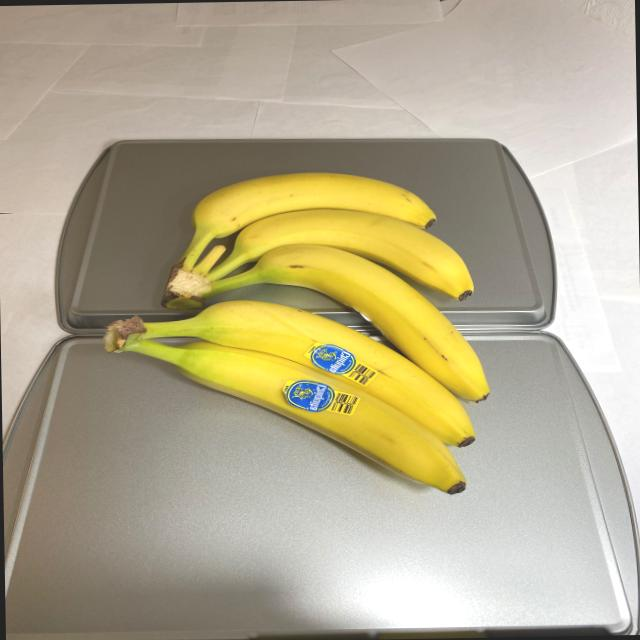banana: (94, 163, 496, 503)
